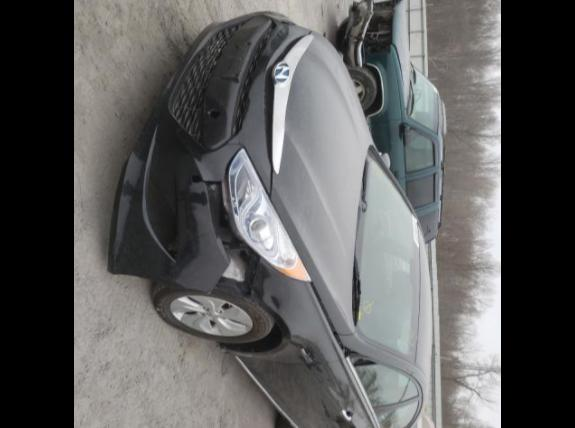Broken part: (106, 10, 310, 300), (307, 280, 362, 358)
Dent: (252, 258, 270, 300)
Missing part: (214, 40, 250, 76), (346, 352, 378, 378), (208, 108, 220, 118)
